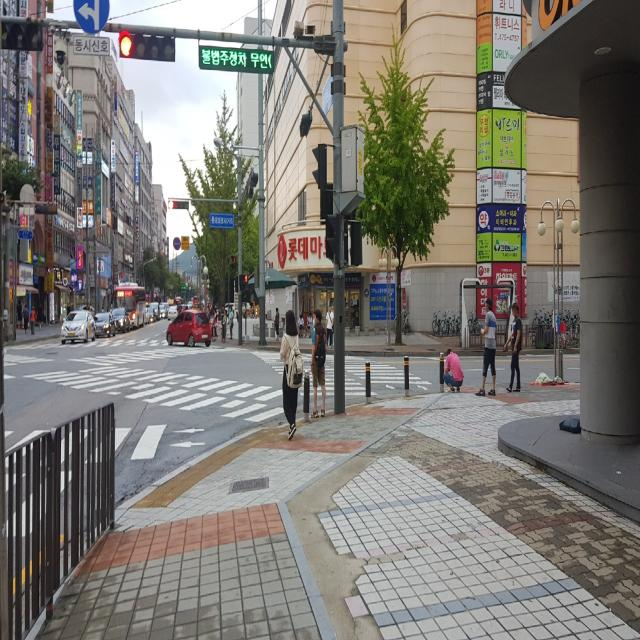빨간불: (232, 256, 236, 272), (244, 275, 248, 290)
횡단보도: (3, 343, 276, 418), (249, 350, 432, 396), (116, 424, 200, 462)
